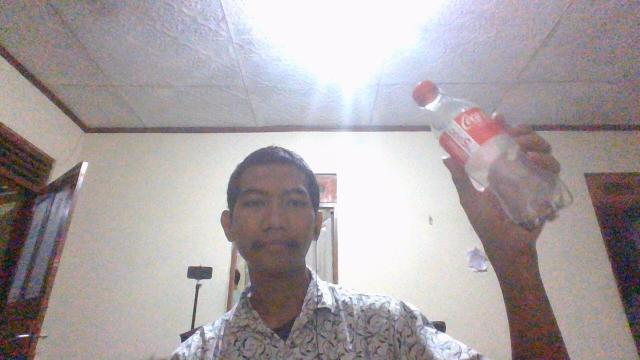coca-cola: (411, 78, 577, 240)
